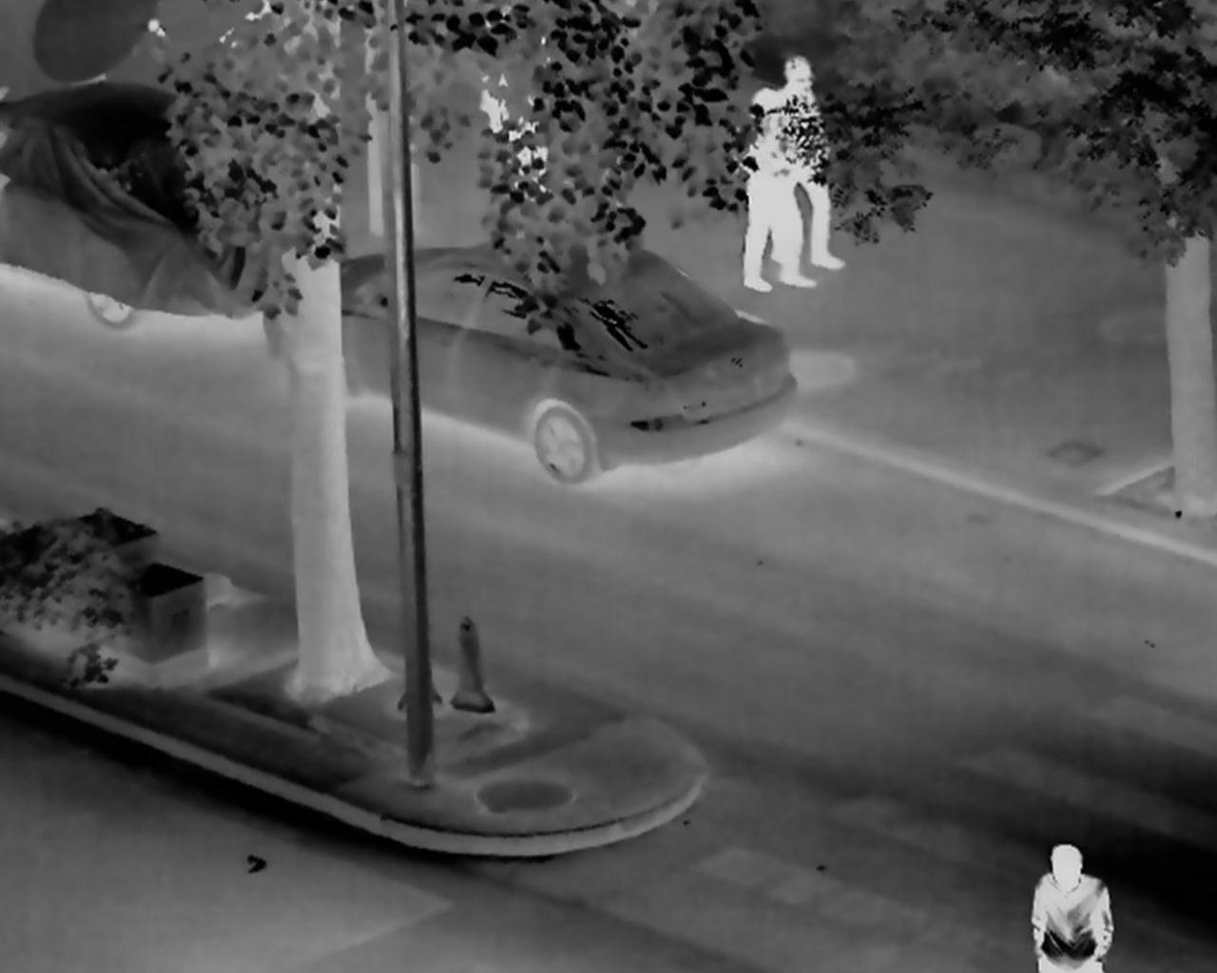person: (727, 93, 813, 293), (770, 56, 846, 271), (1031, 843, 1115, 973)
